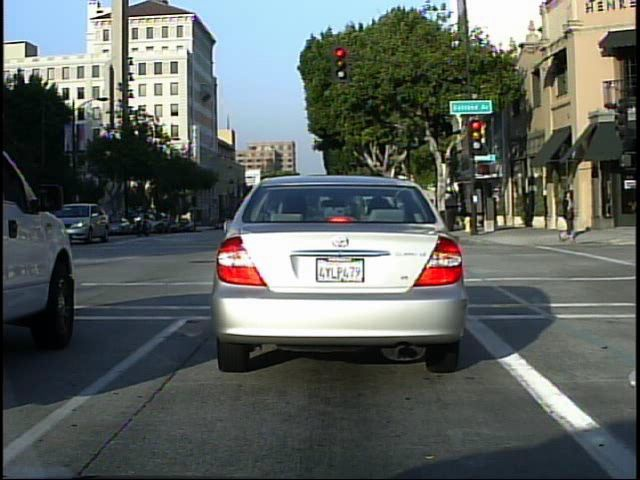person: (556, 185, 586, 250), (132, 201, 155, 237)
